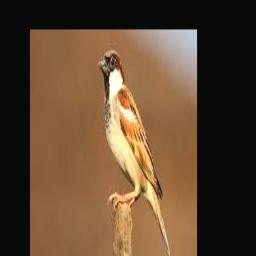Sparrow: (98, 50, 172, 256)
